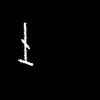double_crochet: (19, 23, 32, 65)
